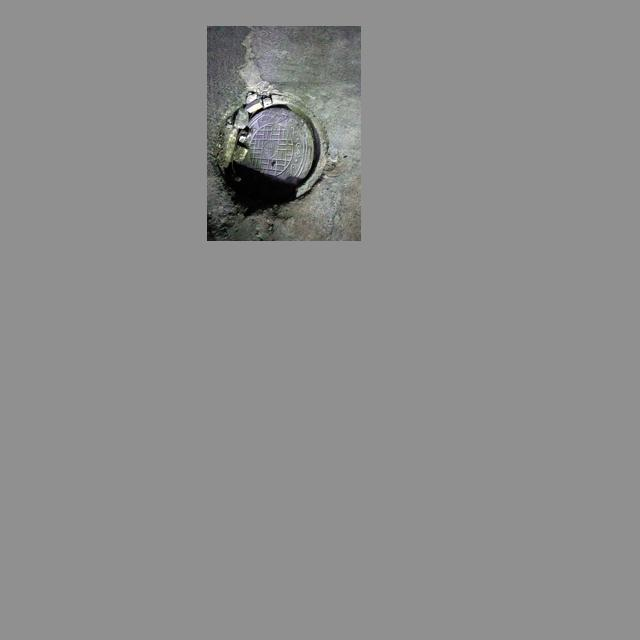circle: (211, 93, 332, 208)
